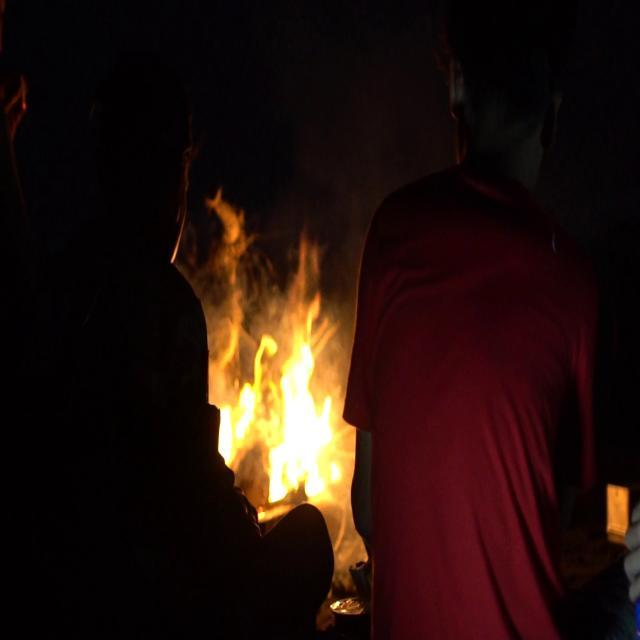Fire: (216, 300, 343, 510), (216, 367, 259, 467)
